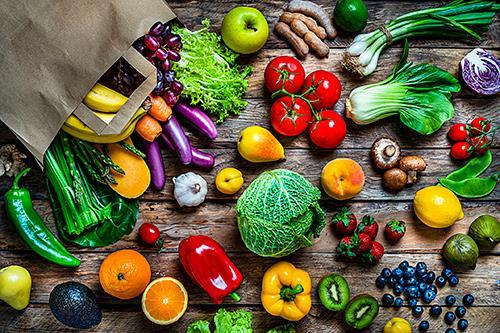apple: (221, 6, 269, 54), (1, 264, 31, 310)
